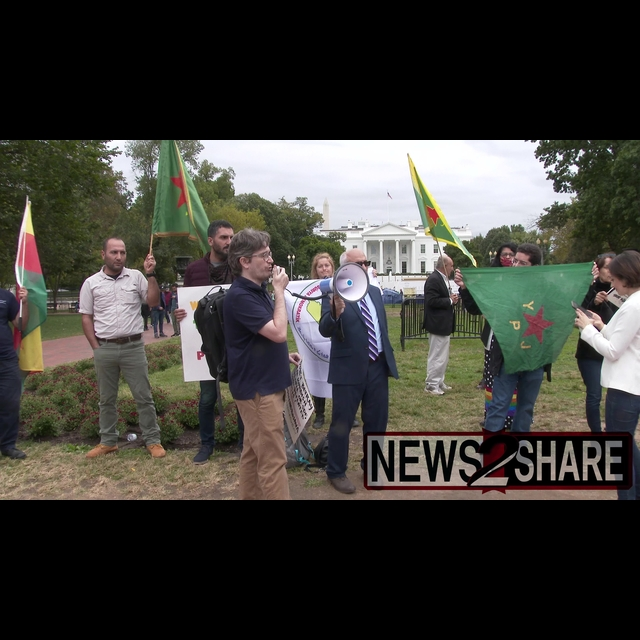YPJ: (451, 263, 600, 373)
